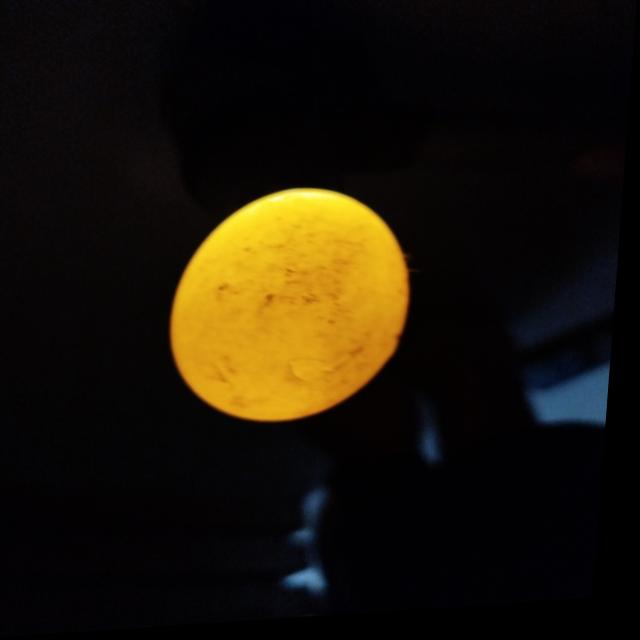Rachadura: (297, 353, 368, 392)
